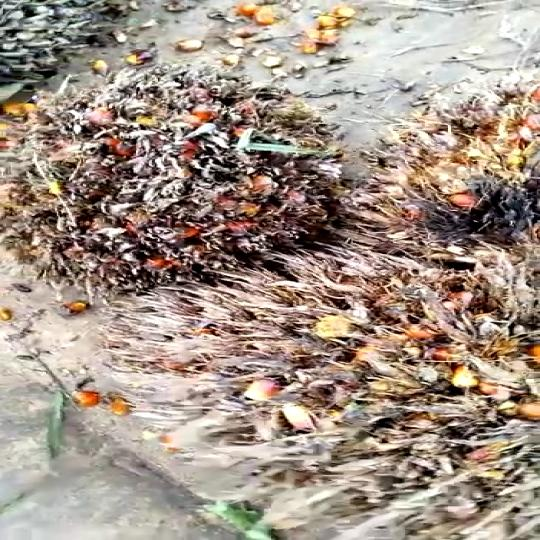terlalu masak: (135, 240, 540, 509), (0, 90, 362, 278)
